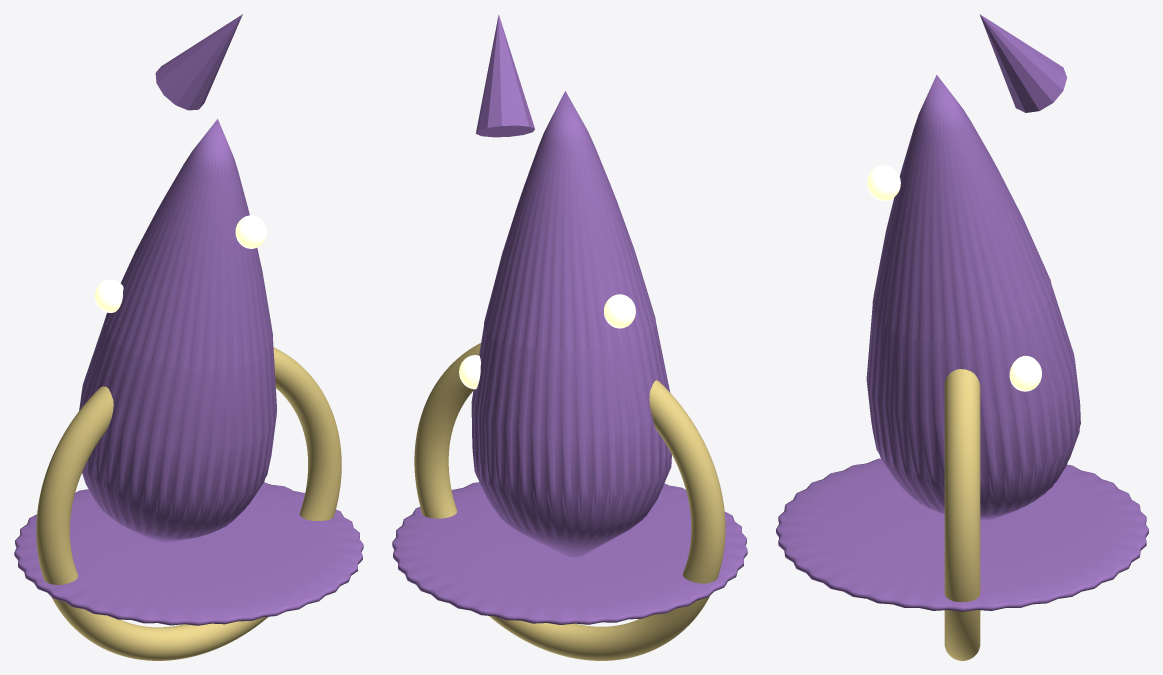
File: wizard_hat.glb
3 views of the same model, side by side, from view 1: azimuth 30°, elevation 25°; view 2: azimuth 150°, elevation 25°; view 3: azimuth 270°, elevation 25° (orthographic). The views are drawn at different scales.
Parts seen in each view (by area): view 1: WizardHat_Cone, WizardHat_Brim, WizardHat_Band, WizardHat_Tip, WizardHat_Star_2, WizardHat_Star_1; view 2: WizardHat_Cone, WizardHat_Brim, WizardHat_Band, WizardHat_Tip, WizardHat_Star_1, WizardHat_Star_0; view 3: WizardHat_Cone, WizardHat_Brim, WizardHat_Band, WizardHat_Tip, WizardHat_Star_2, WizardHat_Star_0.
Boxes of the visible parts, bbox=[...] form: WizardHat_Cone: bbox=[79, 119, 276, 542]; WizardHat_Brim: bbox=[14, 482, 363, 625]; WizardHat_Band: bbox=[36, 347, 341, 660]; WizardHat_Tip: bbox=[155, 14, 242, 110]; WizardHat_Star_2: bbox=[235, 215, 266, 248]; WizardHat_Star_1: bbox=[94, 279, 123, 312]; WizardHat_Cone: bbox=[471, 91, 671, 557]; WizardHat_Brim: bbox=[392, 482, 747, 624]; WizardHat_Band: bbox=[414, 343, 725, 660]; WizardHat_Tip: bbox=[476, 14, 534, 137]; WizardHat_Star_1: bbox=[604, 294, 635, 328]; WizardHat_Star_0: bbox=[459, 355, 480, 389]; WizardHat_Cone: bbox=[866, 75, 1080, 520]; WizardHat_Brim: bbox=[776, 458, 1148, 611]; WizardHat_Band: bbox=[944, 369, 980, 660]; WizardHat_Tip: bbox=[979, 14, 1066, 112]; WizardHat_Star_2: bbox=[867, 165, 900, 200]; WizardHat_Star_0: bbox=[1009, 355, 1041, 391].
Bounding box in the file's own units: 0.2376 × 0.4655 × 0.2376.
